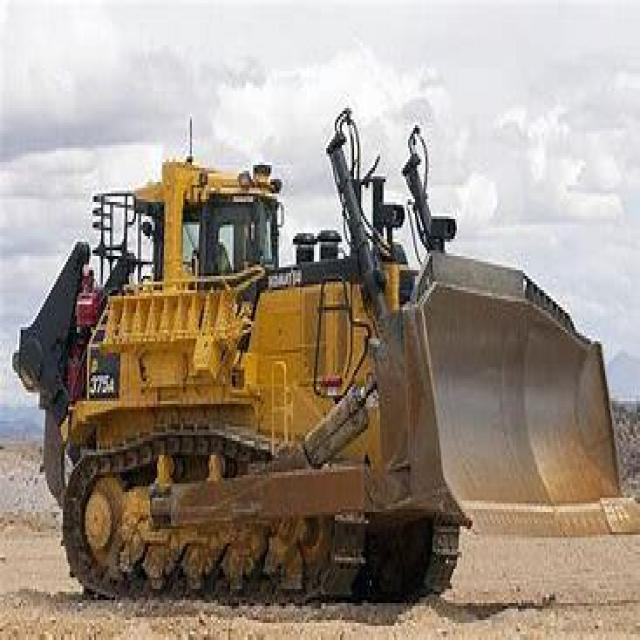Bulldozer: (9, 100, 638, 603)
